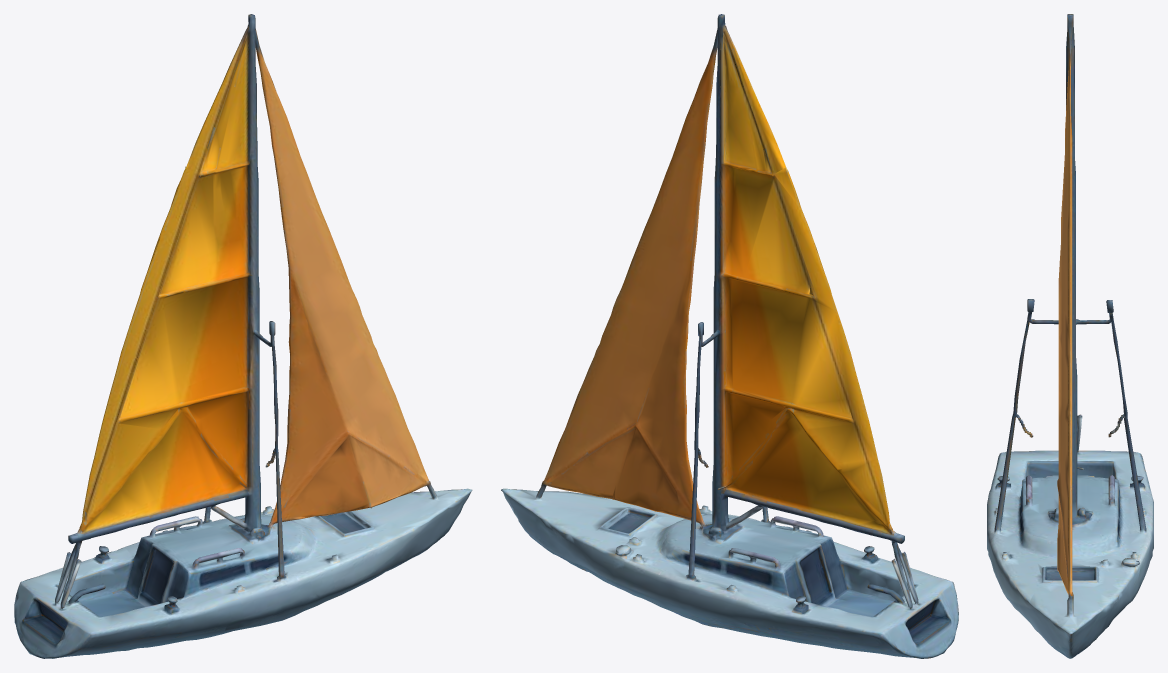
File: sailboat.glb
3 views of the same model, side by side, from view 1: azimuth 30°, elevation 25°; view 2: azimuth 150°, elevation 25°; view 3: azimuth 270°, elevation 25° (orthographic). The views are drawn at different scales.
Visible parts, largest first — view 1: prop; view 2: prop; view 3: prop.
Boxes of the visible parts, x1,y1,x2,y2 form: prop: (14,14,472,658); prop: (501,14,958,658); prop: (987,14,1153,658).
Bounding box in the file's own units: 0.7769 × 1 × 0.2603.
1 material, 1 textured.
